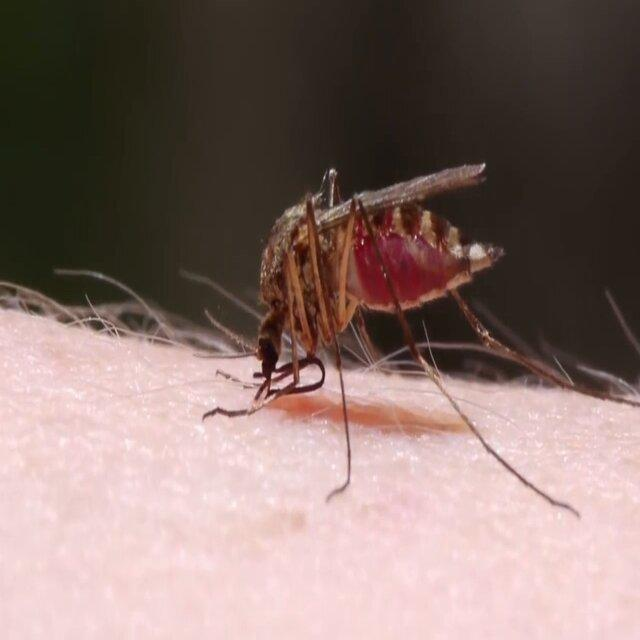mosquitos: (259, 164, 505, 387)
